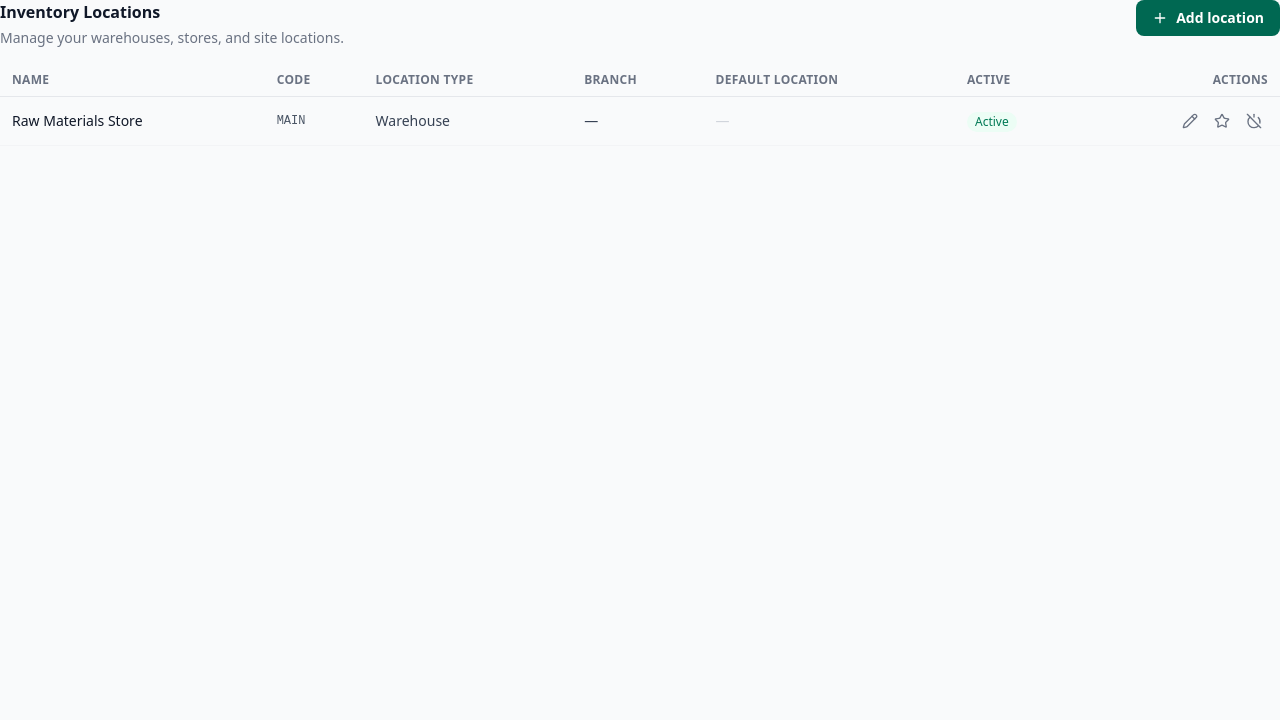
Test case: LocationsTab — safe deactivation flow › blocks with the specific stock reason and refuses to confirm
Click the button with test id "location-deactivate-loc-rm".
click(1254, 121)  # box [1240,107,1268,135]
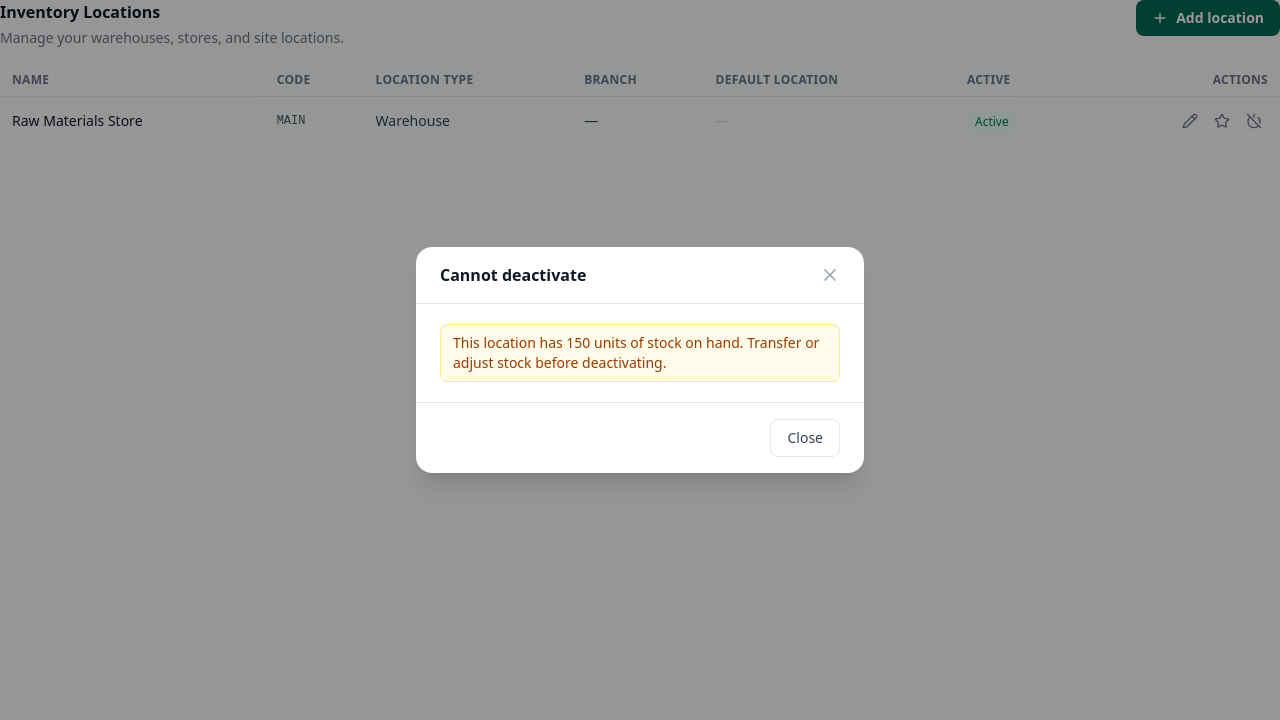
Now the list with test id "deactivate-blocked" is shown, box [440,324,840,382]
Now the heading "Cannot deactivate" is shown, box [440,263,586,287]
Now the list item "150 units of stock on hand" is shown, box [453,333,819,372]
